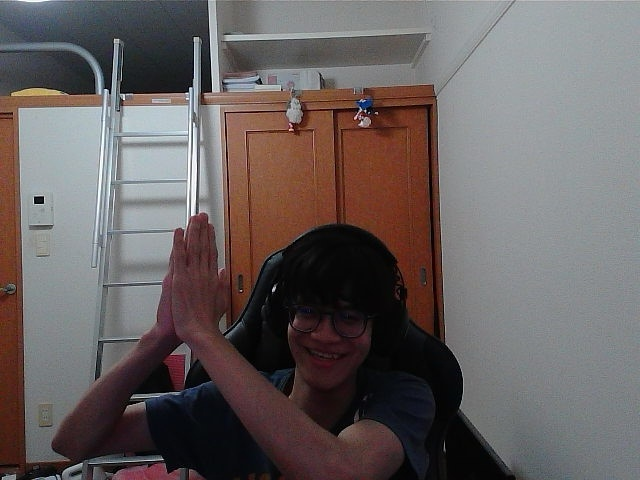pray: (178, 218, 222, 321)
